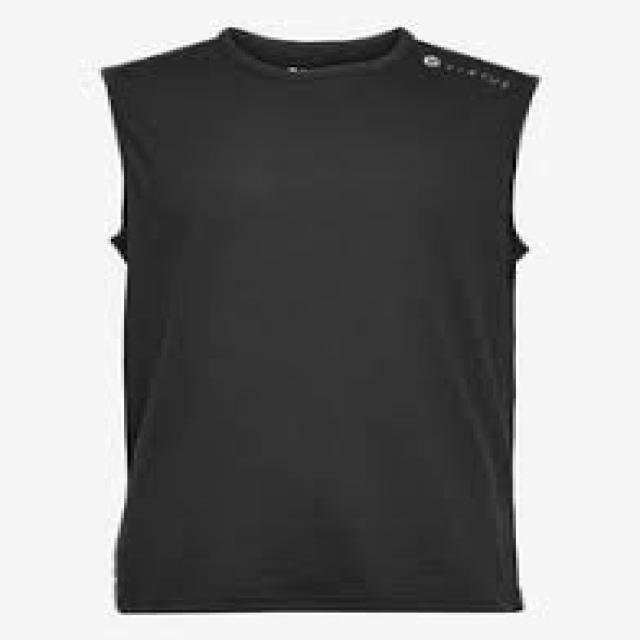no_vest: (101, 26, 544, 614)
